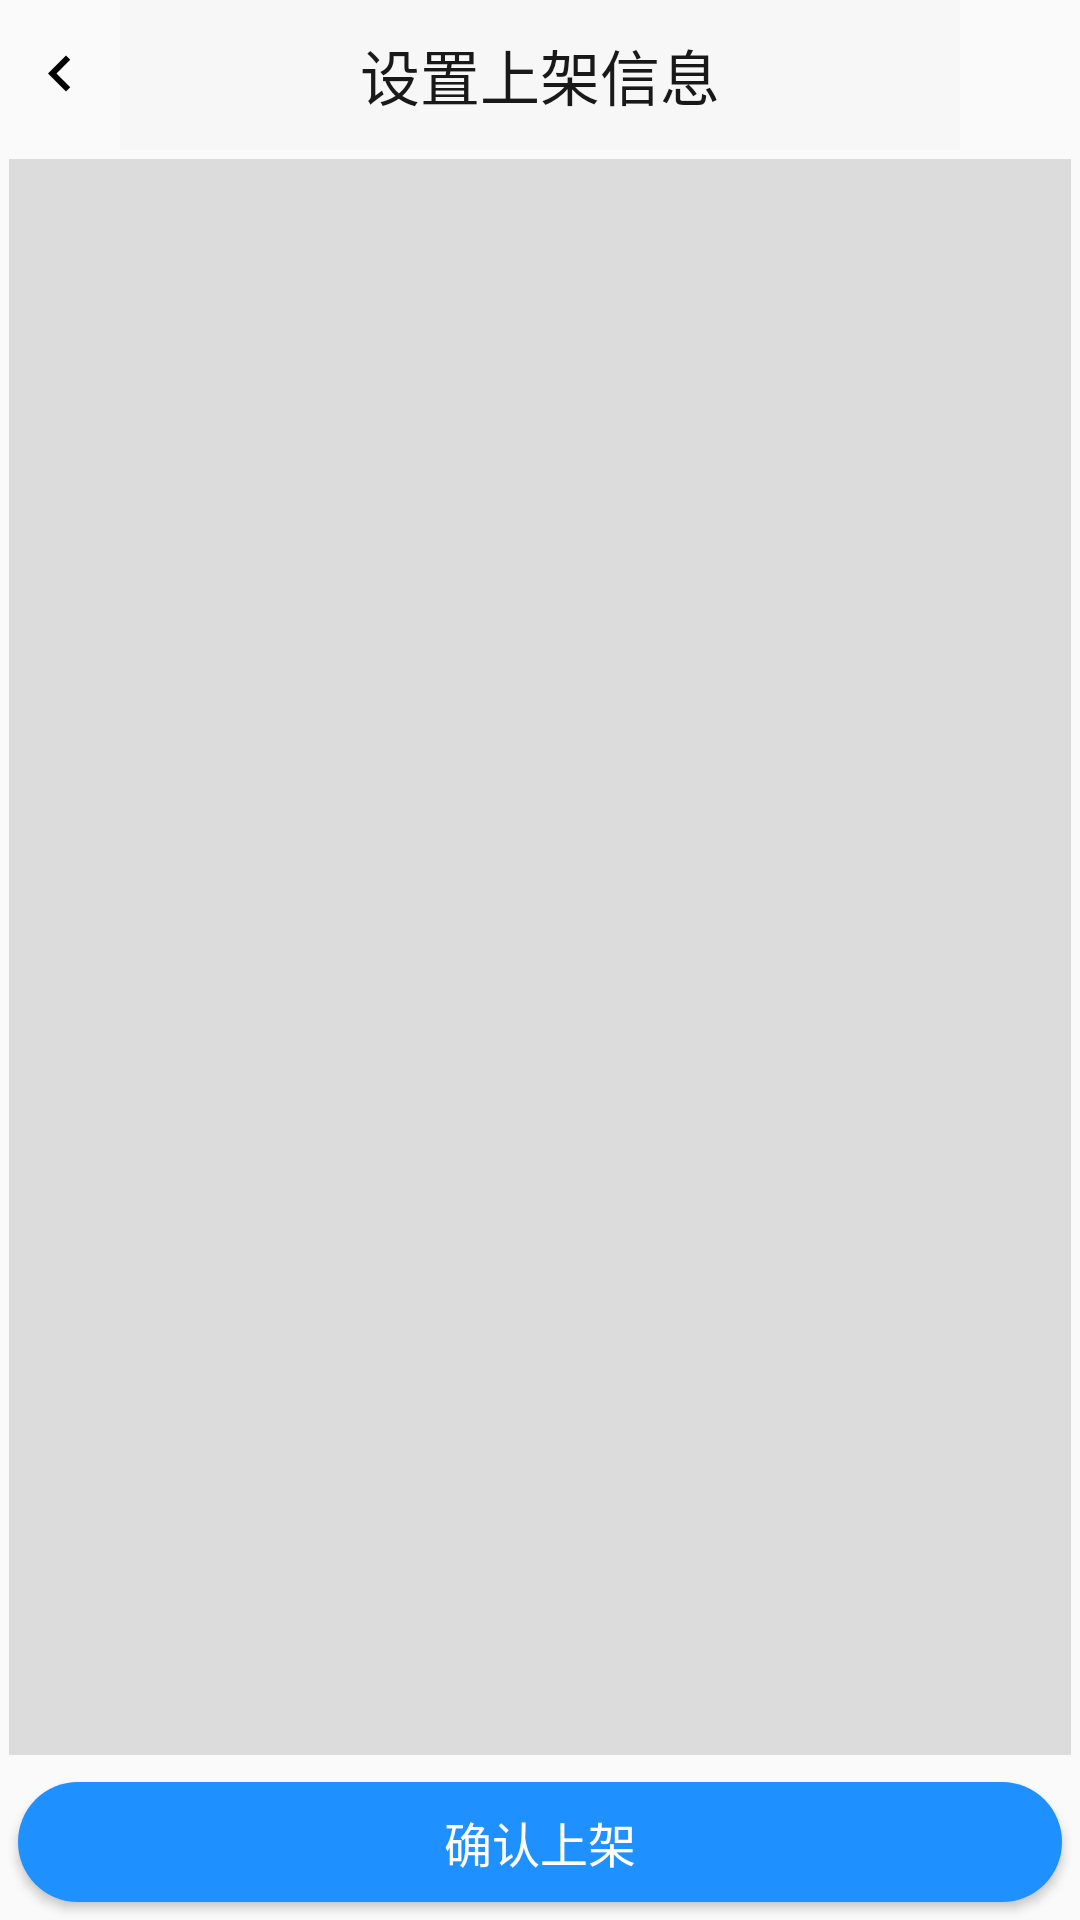

Named icons in this screenshot (1080 x 1920) and their bounding boxes, Rect(x1, y1, x2, y2):
back: Rect(48, 55, 70, 92)
